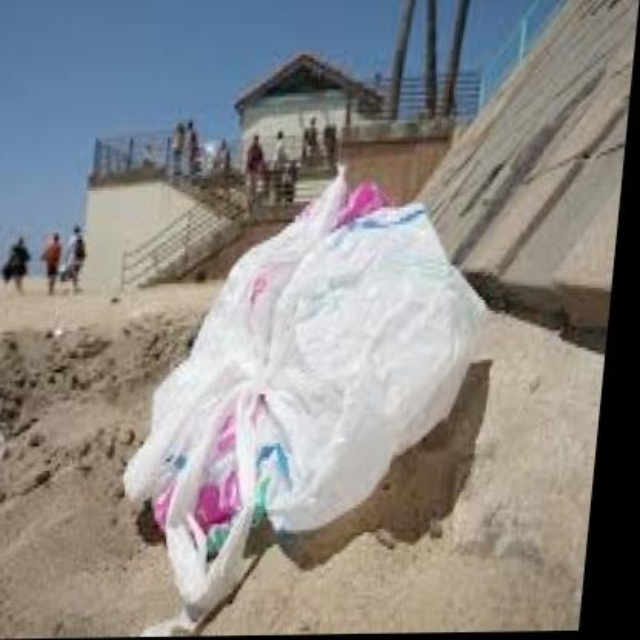trash: (125, 169, 485, 626)
